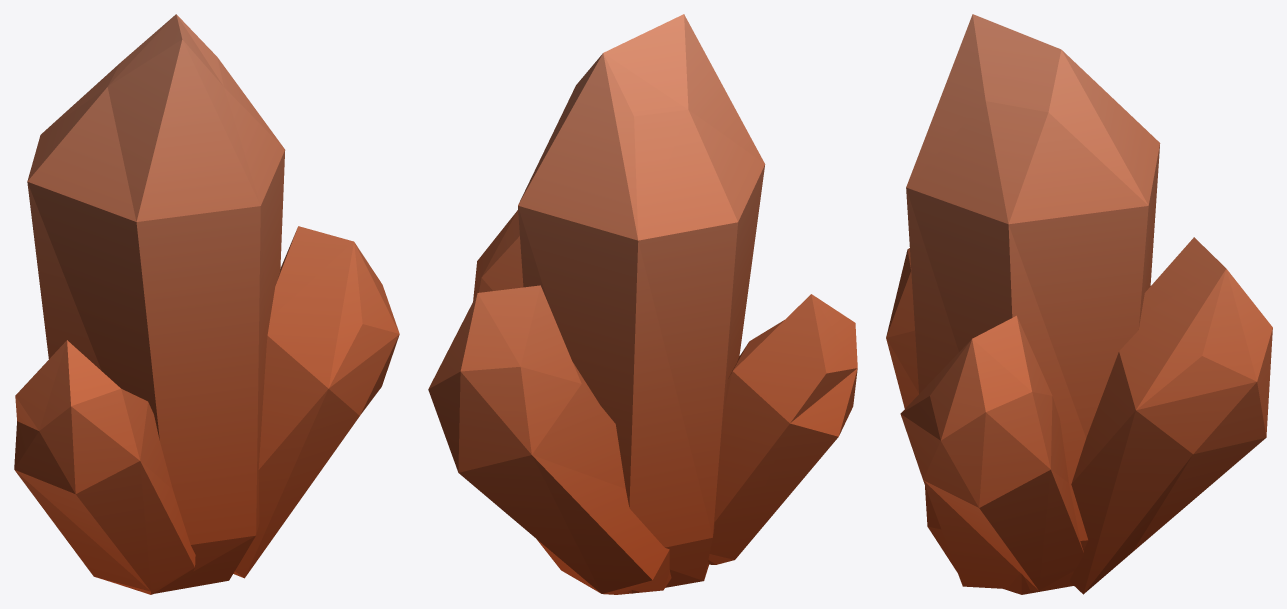
File: Crystal_12.fbx
3 views of the same model, side by side, from view 1: azimuth 30°, elevation 25°; view 2: azimuth 150°, elevation 25°; view 3: azimuth 270°, elevation 25° (orthographic). The views are drawn at different scales.
Parts seen in each view (by area): view 1: Crystal_12; view 2: Crystal_12; view 3: Crystal_12.
Part boxes in pixels (bbox=[...]): Crystal_12: bbox=[14, 14, 399, 594]; Crystal_12: bbox=[428, 14, 857, 594]; Crystal_12: bbox=[886, 14, 1272, 594].
Size of the model in its own units: 0.9065 by 1.29 by 0.8262.
